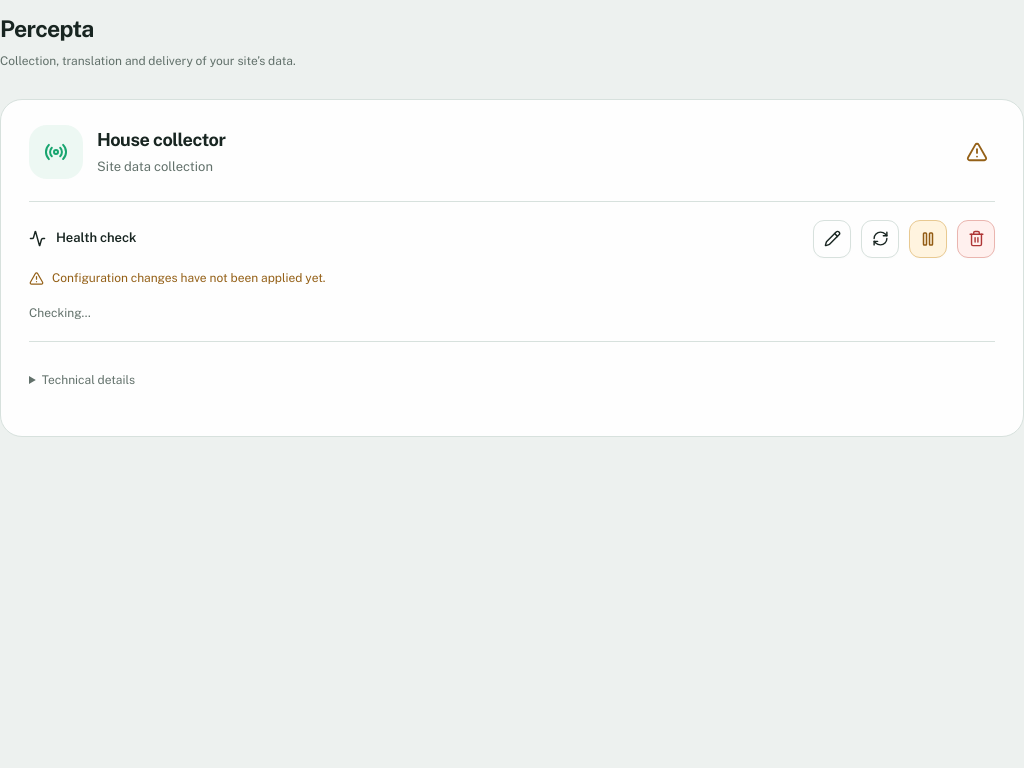
it: requires confirmation to delete and confirms a stop before removing a running instance
Step 1. Click the button named "Delete instance" → (976, 239), box [957,220,995,258]
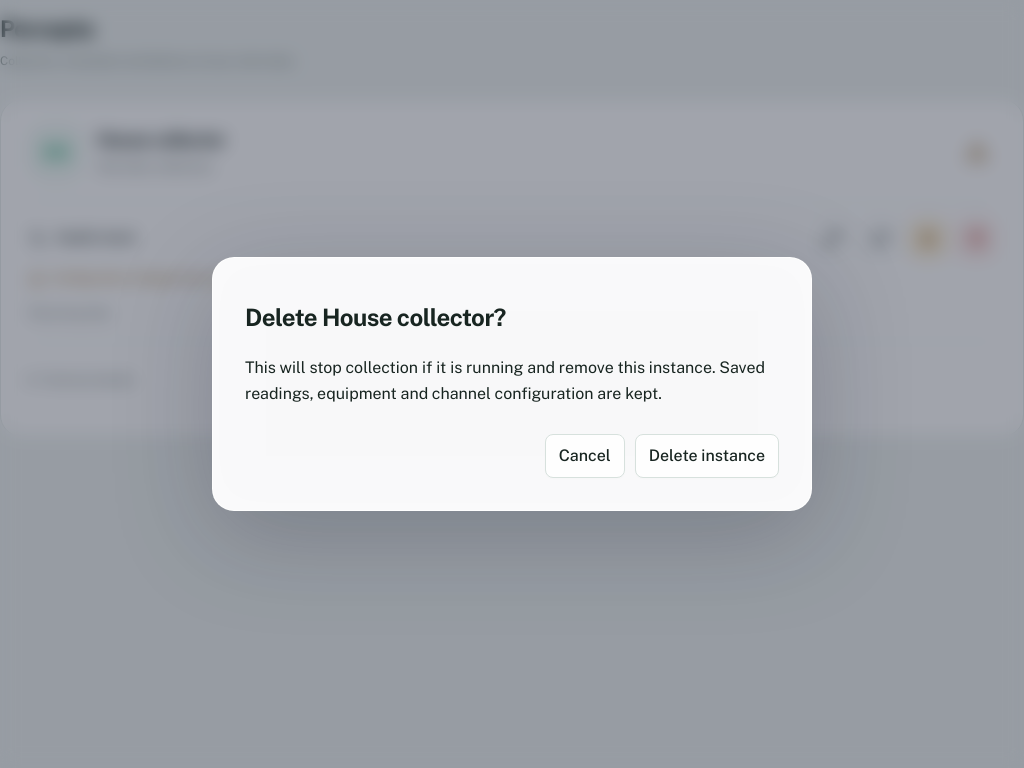
Expected: the text "Saved readings, equipment and channel configuration are kept" is shown, [245,358,765,403]
Step 2. Click the button "Cancel" → (585, 456), box [545,434,625,478]
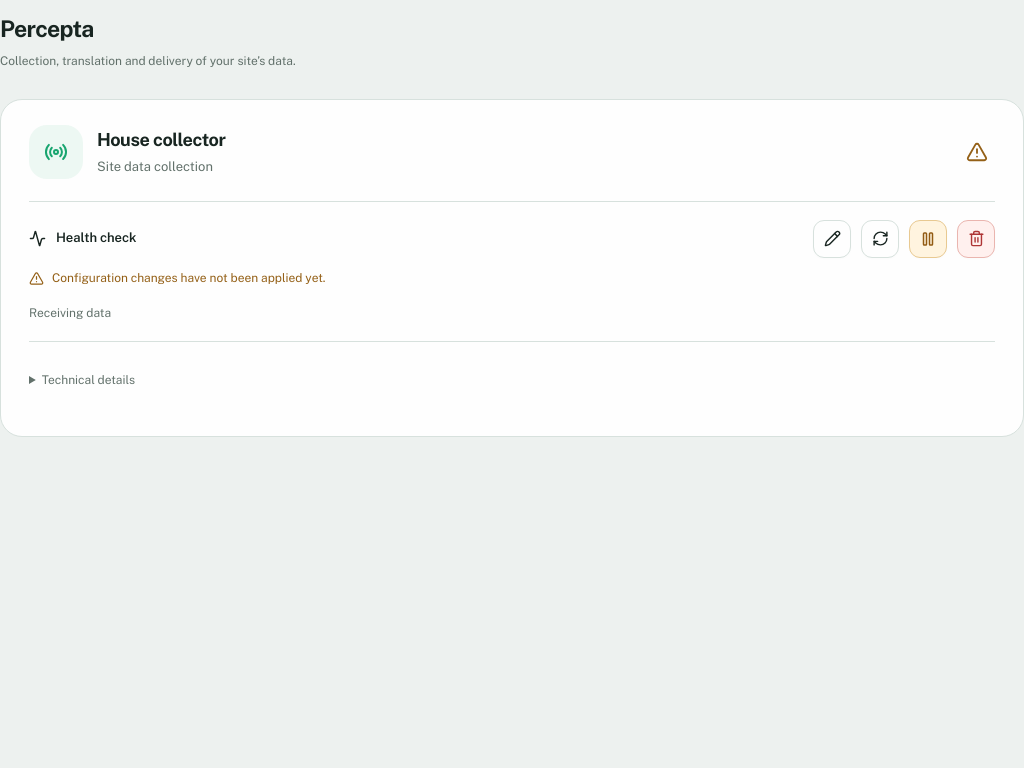
Step 3. Click the button named "Delete instance" → (976, 239), box [957,220,995,258]
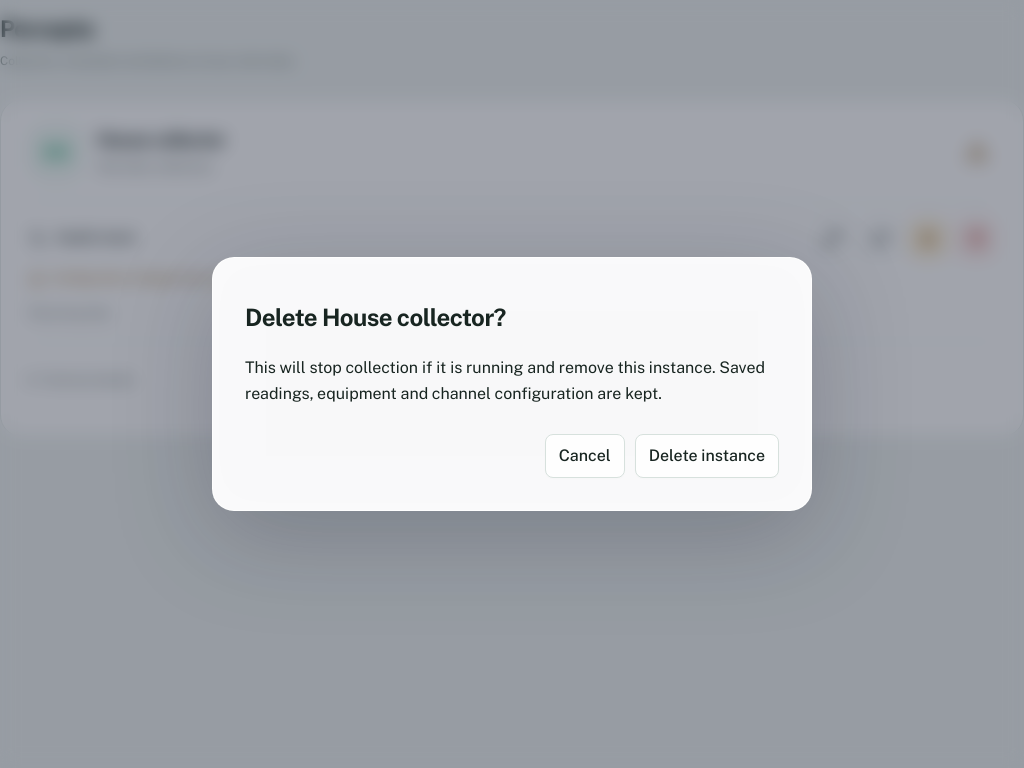
Step 4. Click the button "Delete instance" → (707, 456), box [635,434,779,478]
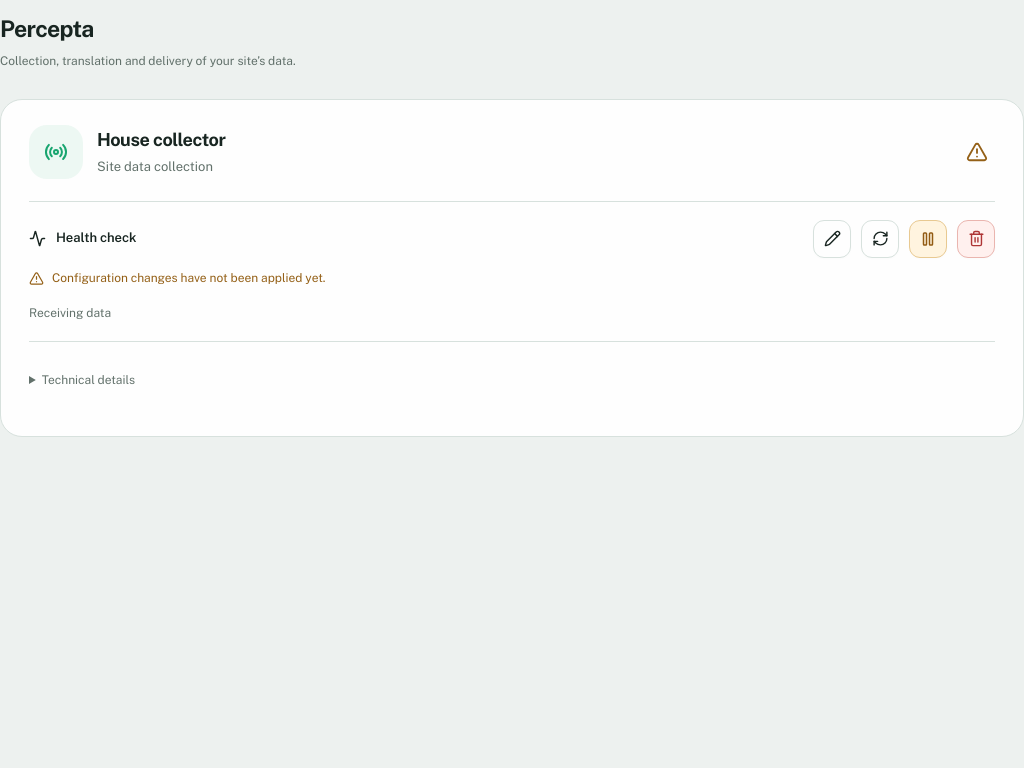
Expected: the dialog is gone
